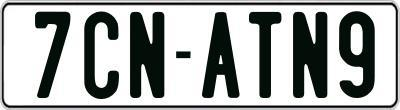7: (35, 12, 76, 103)
9: (337, 8, 376, 99)
A: (201, 9, 240, 98)
C: (82, 10, 123, 101)
N: (128, 9, 165, 100), (291, 11, 329, 98)
T: (246, 10, 279, 102)
